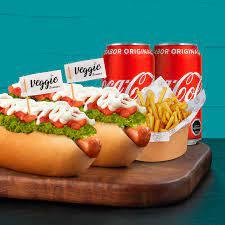Completos: (12, 83, 151, 168), (0, 96, 93, 170)
